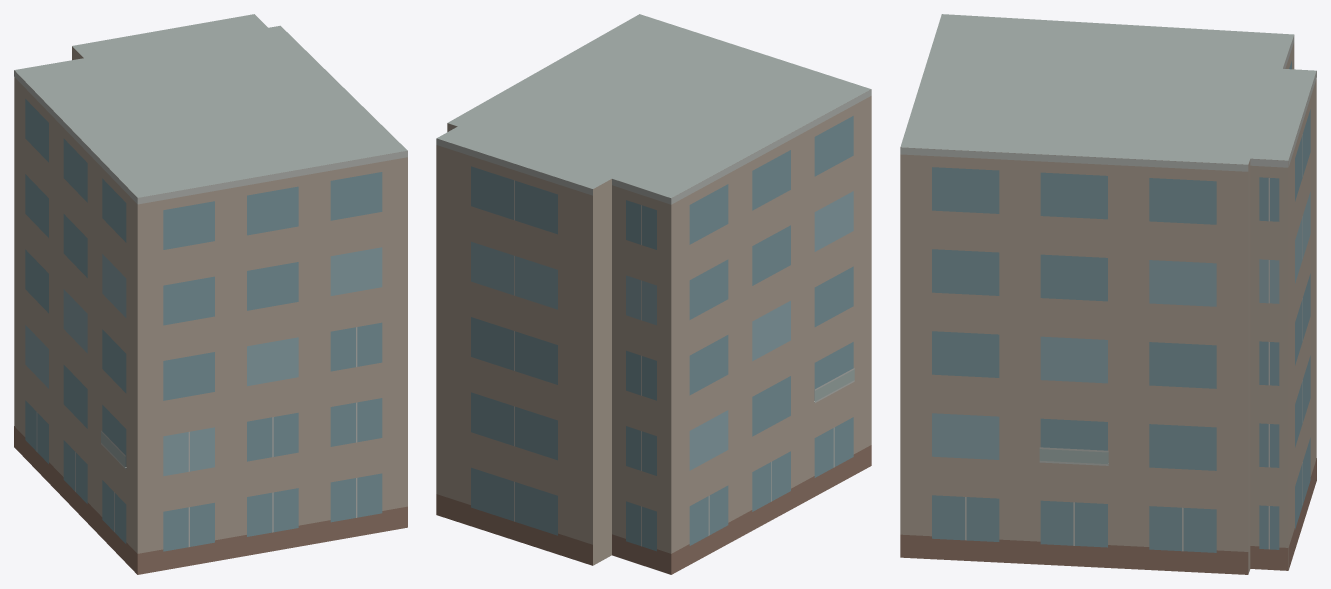
Rendered from survey-upis-32669184.glb.
3 views of the same model, side by side, from view 1: azimuth 30°, elevation 25°; view 2: azimuth 150°, elevation 25°; view 3: azimuth 270°, elevation 25° (orthographic). The views are drawn at different scales.
Visible parts, largest first — view 1: survey-upis-32669184.tmp; view 2: survey-upis-32669184.tmp; view 3: survey-upis-32669184.tmp.
Boxes of the visible parts, <box> form: survey-upis-32669184.tmp: <box>14,14,407,574</box>; survey-upis-32669184.tmp: <box>436,14,871,574</box>; survey-upis-32669184.tmp: <box>900,14,1316,574</box>.
Size of the model in its own units: 11.12 by 14.1 by 12.98.
